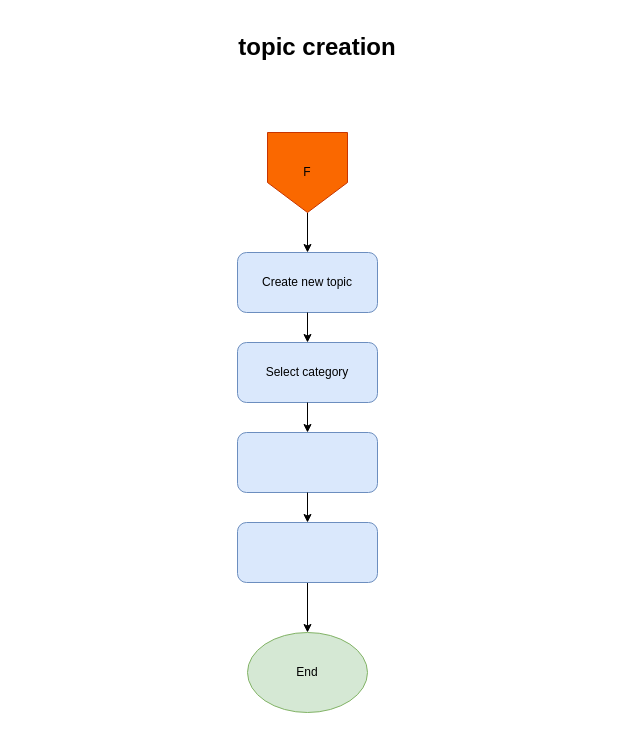
Image size: 634x730. Some labels were removed from this diagram. Here are the shapes that lost their labels. From the top down, the centre of each, then its label:
At pixel 307 462: "Enter topic content and upload attachments".
At pixel 307 552: "Save and publish content".
